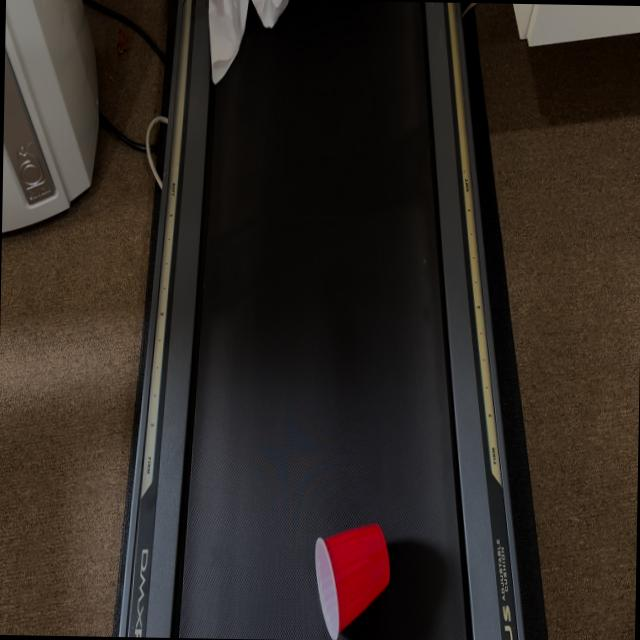Recycle: (312, 518, 391, 640)
